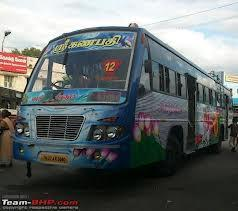Bus: (14, 29, 232, 169)
